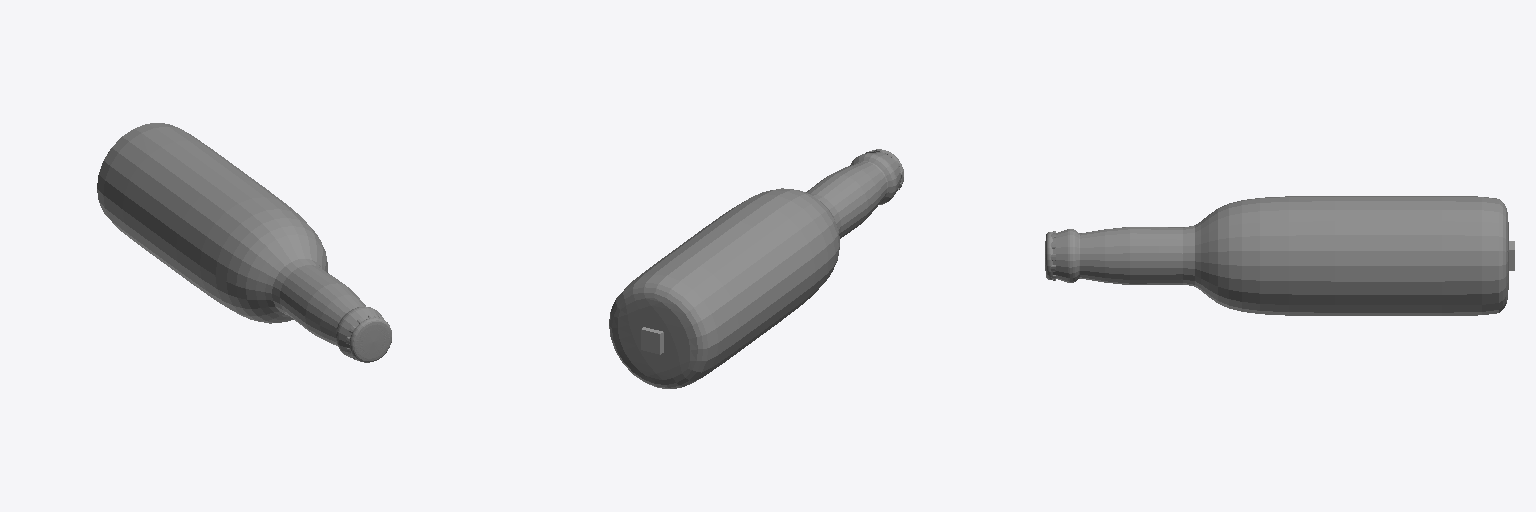
The model's file is corona.obj.
3 renders of one model, left to right at view 1: azimuth 30°, elevation 25°; view 2: azimuth 150°, elevation 25°; view 3: azimuth 270°, elevation 25°, orthographic.
Visible parts, largest first — view 1: Botella; view 2: Botella, Cube; view 3: Botella.
Part boxes in pixels (left/top/right/bottom): Botella: left=97, top=123, right=391, bottom=362; Botella: left=609, top=149, right=903, bottom=388; Cube: left=641, top=327, right=663, bottom=354; Botella: left=1045, top=196, right=1508, bottom=315.
Size of the model in its own units: 10.56 by 10.56 by 41.1.